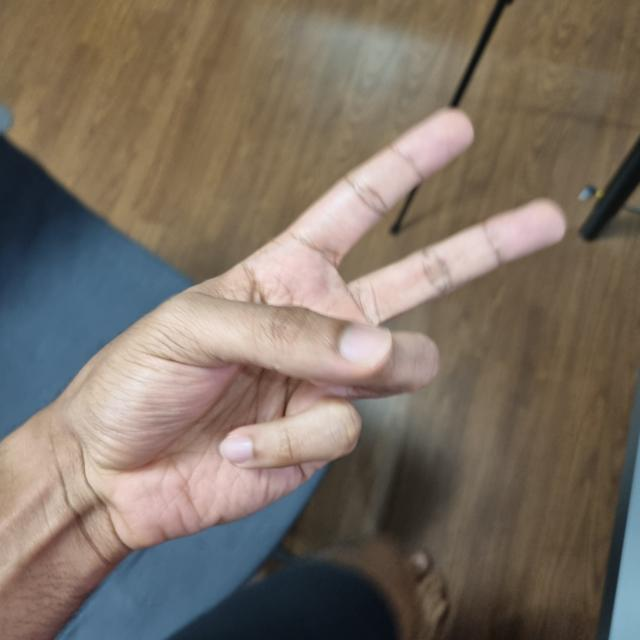Scissors: (49, 113, 560, 555)
